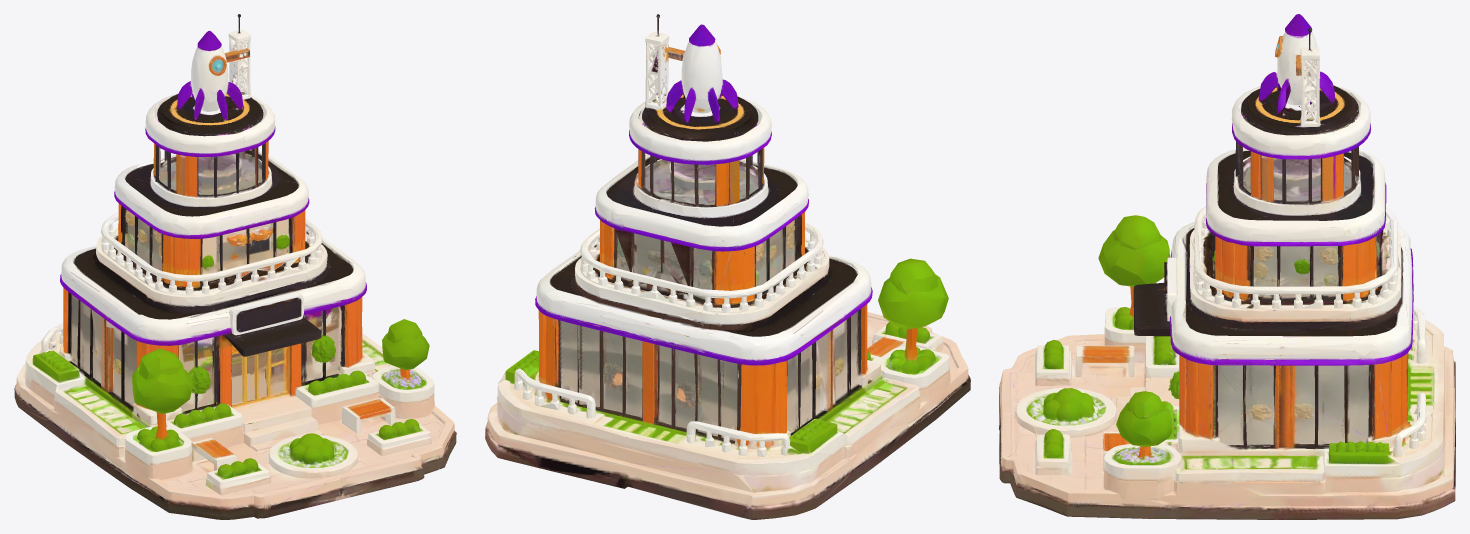
The model's file is decision-tower.glb.
3 renders of one model, left to right at view 1: azimuth 30°, elevation 25°; view 2: azimuth 150°, elevation 25°; view 3: azimuth 270°, elevation 25°, orthographic. The views are drawn at different scales.
Visible parts, largest first — view 1: Mesh_0; view 2: Mesh_0; view 3: Mesh_0.
Boxes of the visible parts, x1,y1,x2,y2 form: Mesh_0: [14, 14, 456, 519]; Mesh_0: [485, 14, 970, 519]; Mesh_0: [999, 14, 1455, 519].
Bounding box in the file's own units: 1.58 × 1.9 × 1.84.
Materials: 1 (1 with a texture image).
